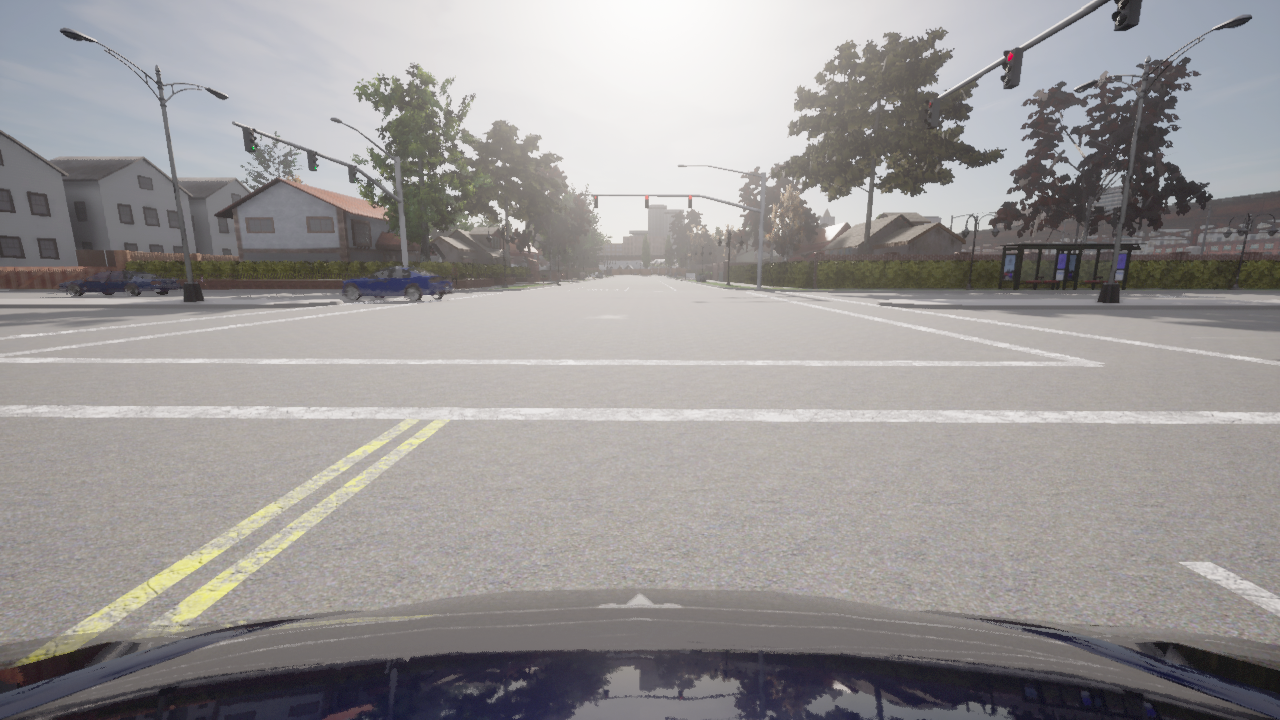cyclist: (0, 588, 1279, 719), (341, 266, 453, 301), (56, 270, 182, 296)
pedestrian: (450, 263, 459, 292), (200, 274, 208, 289), (762, 268, 763, 275)
